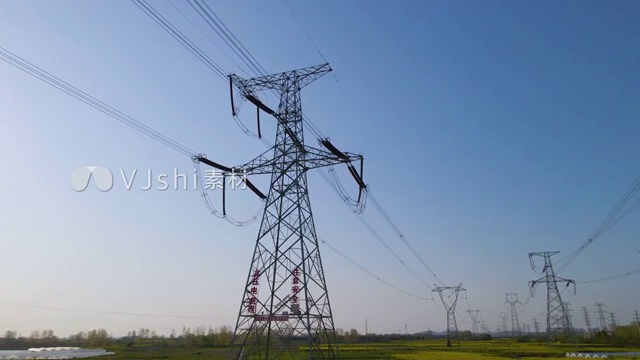tower_body: (215, 58, 367, 360), (525, 244, 581, 352), (430, 278, 471, 350)
tower_foot: (232, 297, 338, 360), (545, 320, 576, 350)
tower_head: (220, 61, 345, 92), (431, 281, 467, 310), (527, 249, 564, 261)
